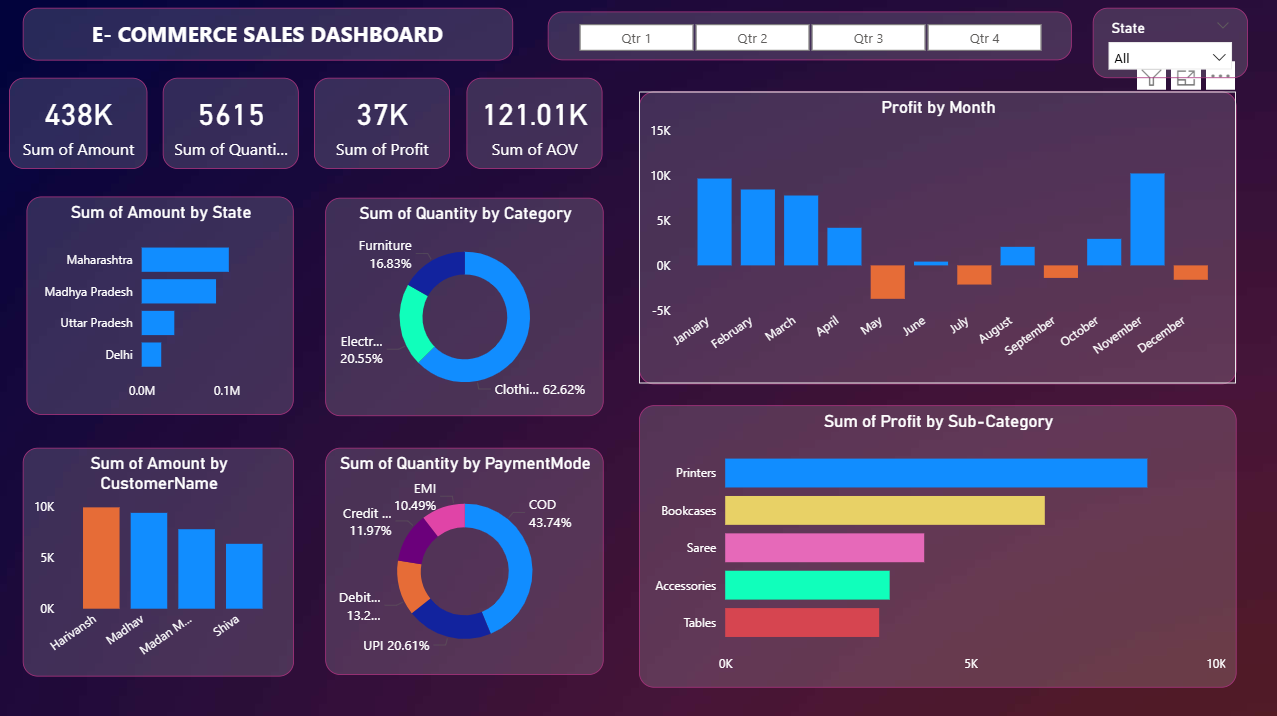

What the dashboard file says about the page in this screenshot:
{"tool":"powerbi","page":{"name":"Page 1","canvas":[1280,720],"ordinal":0},"visuals":[{"type":"textbox","box":[23.8,8.8,490,52.5],"z":0},{"type":"columnChart","title":"Profit by Month","fields":{"Category":["Orders (1).Order Date.Variation.Date Hierarchy.Month"],"Y":["Details (1).Profit"]},"box":[640,92.5,597.5,292.5],"z":1000},{"type":"barChart","fields":{"Category":["Details (1).Sub-Category"],"Y":["Details (1).Profit"]},"box":[640,406.2,597.5,282.5],"z":2000},{"type":"donutChart","fields":{"Category":["Details (1).Category"],"Y":["Details (1).Quantity"]},"box":[326.2,198.8,278.8,218.8],"z":3000},{"type":"donutChart","fields":{"Y":["Details (1).Quantity"],"Category":["Details (1).PaymentMode"]},"box":[326.2,448.8,278.8,227.5],"z":4000},{"type":"card","fields":{"Values":["Details (1).Amount"]},"box":[10,78.8,138.8,91.2],"z":5000},{"type":"card","fields":{"Values":["Details (1).Quantity"]},"box":[163.8,78.8,136.2,91.2],"z":6000},{"type":"card","fields":{"Values":["Details (1).Profit"]},"box":[315,78.8,136.2,91.2],"z":7000},{"type":"card","fields":{"Values":["Details (1).AOV"]},"box":[467.5,78.8,136.2,91.2],"z":8000},{"type":"barChart","fields":{"Category":["Orders (1).State"],"Y":["Details (1).Amount"]},"box":[27.5,197.5,267.5,218.8],"z":9000},{"type":"clusteredColumnChart","fields":{"Category":["Orders (1).CustomerName"],"Y":["Details (1).Amount"]},"box":[23.8,448.8,271.2,228.8],"z":10000},{"type":"slicer","fields":{"Values":["Orders (1).State"]},"box":[1093.8,8.8,155,70],"z":11000},{"type":"slicer","fields":{"Values":["Orders (1).Order Date.Variation.Date Hierarchy.Quarter"]},"box":[548.8,12.5,523.8,48.8],"z":12000}]}

Visuals, with their boxes in screenshot pixels (x1, y1, x2, y2), scaled from the page's 1280x720 canvas onto the 1277x716 screenshot:
textbox: l=24, t=9, r=513, b=61
"Profit by Month" columnChart: l=638, t=92, r=1235, b=383
barChart - Details (1).Sub-Category x Details (1).Profit: l=638, t=404, r=1235, b=685
donutChart - Details (1).Category x Details (1).Quantity: l=325, t=198, r=604, b=415
donutChart - Details (1).Quantity x Details (1).PaymentMode: l=325, t=446, r=604, b=673
card - Details (1).Amount: l=10, t=78, r=148, b=169
card - Details (1).Quantity: l=163, t=78, r=299, b=169
card - Details (1).Profit: l=314, t=78, r=450, b=169
card - Details (1).AOV: l=466, t=78, r=602, b=169
barChart - Orders (1).State x Details (1).Amount: l=27, t=196, r=294, b=414
clusteredColumnChart - Orders (1).CustomerName x Details (1).Amount: l=24, t=446, r=294, b=674
slicer - Orders (1).State: l=1091, t=9, r=1246, b=78
slicer - Orders (1).Order Date.Variation.Date Hierarchy.Quarter: l=548, t=12, r=1070, b=61
